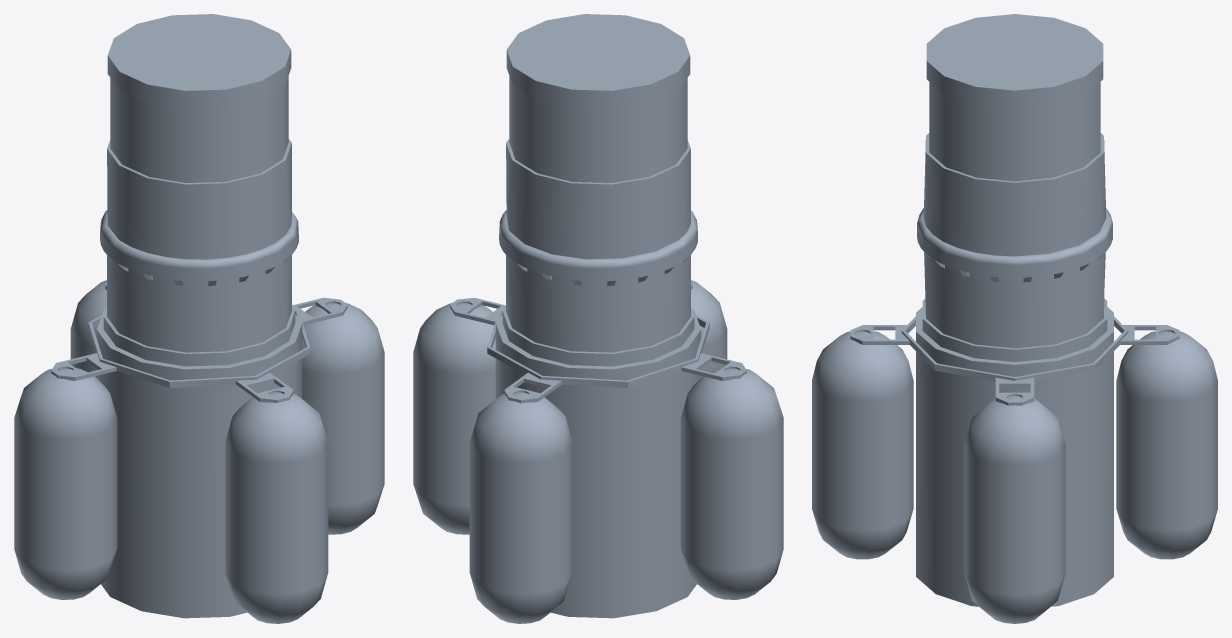
Rendered from killvihecle.obj.
3 views of the same model, side by side, from view 1: azimuth 30°, elevation 25°; view 2: azimuth 150°, elevation 25°; view 3: azimuth 270°, elevation 25° (orthographic).
Parts seen in each view (by area): view 1: 1; view 2: 1; view 3: 1.
Boxes of the visible parts, bbox=[...] form: 1: bbox=[14, 14, 384, 623]; 1: bbox=[413, 14, 783, 623]; 1: bbox=[812, 14, 1217, 623].
Bounding box in the file's own units: 300 × 420 × 300.
